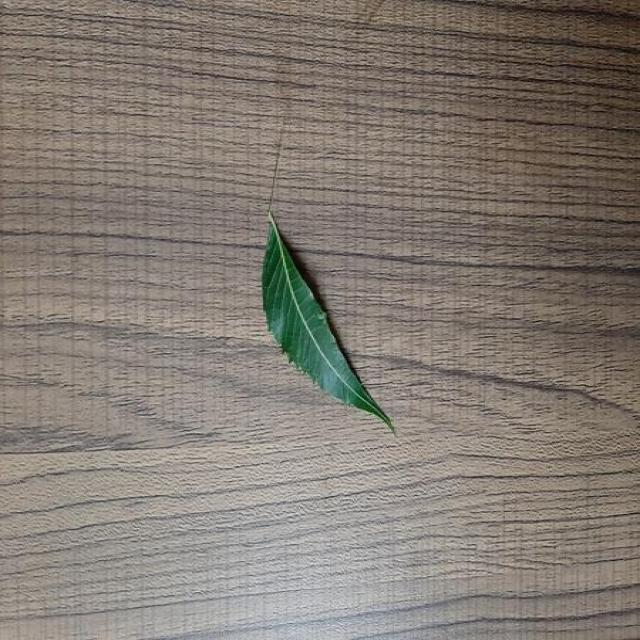neem: (262, 214, 395, 432)
